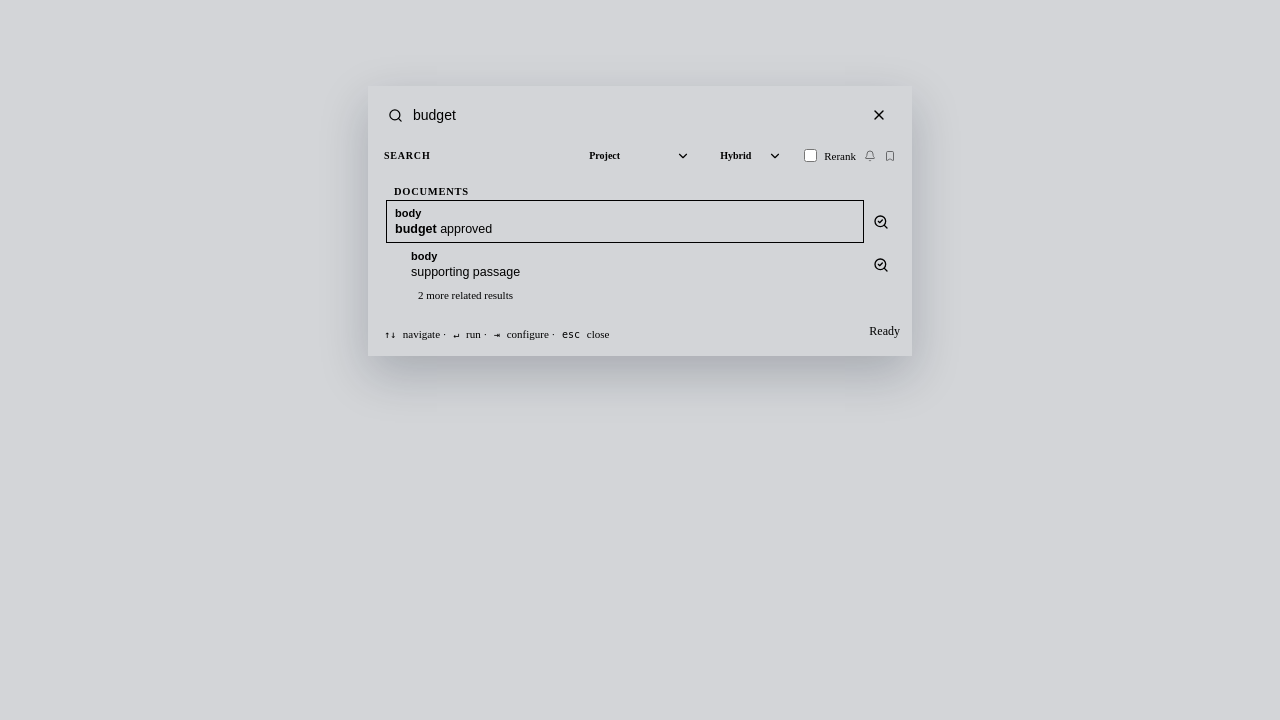
Test: located palette search › renders grouped supporting hits and searches from the selected exact hit
The image size is (1280, 720).
Expected: the text "supporting passage" is shown, [411, 265, 520, 279]
Expected: the text "2 more related results" is shown, [418, 289, 513, 301]
Click the 1st button with test id "search-hit-find-similar".
click(881, 222)  # box [868, 209, 894, 235]
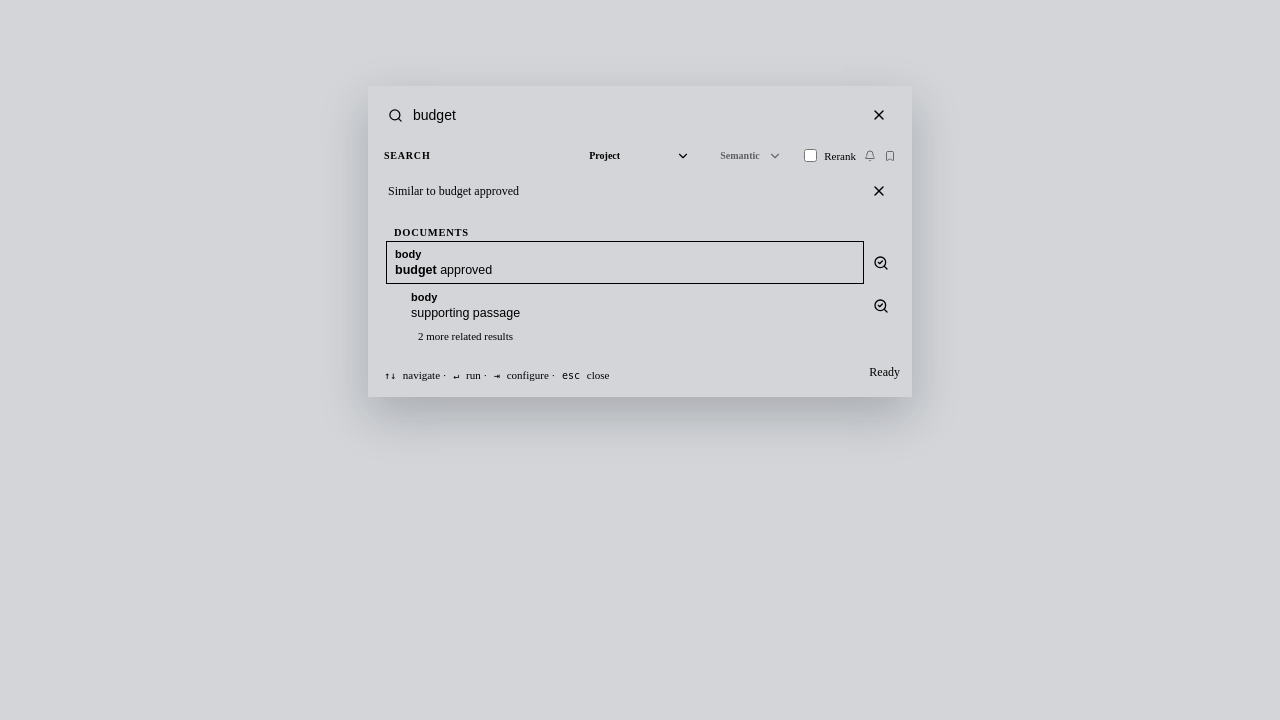
Result: the element with test id "search-anchor" shows "budget approved" at [439, 184, 519, 198]
